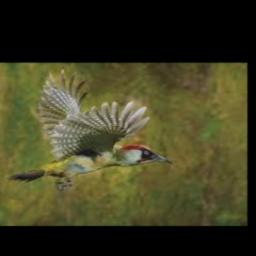Woodpecker: (5, 69, 173, 190)
